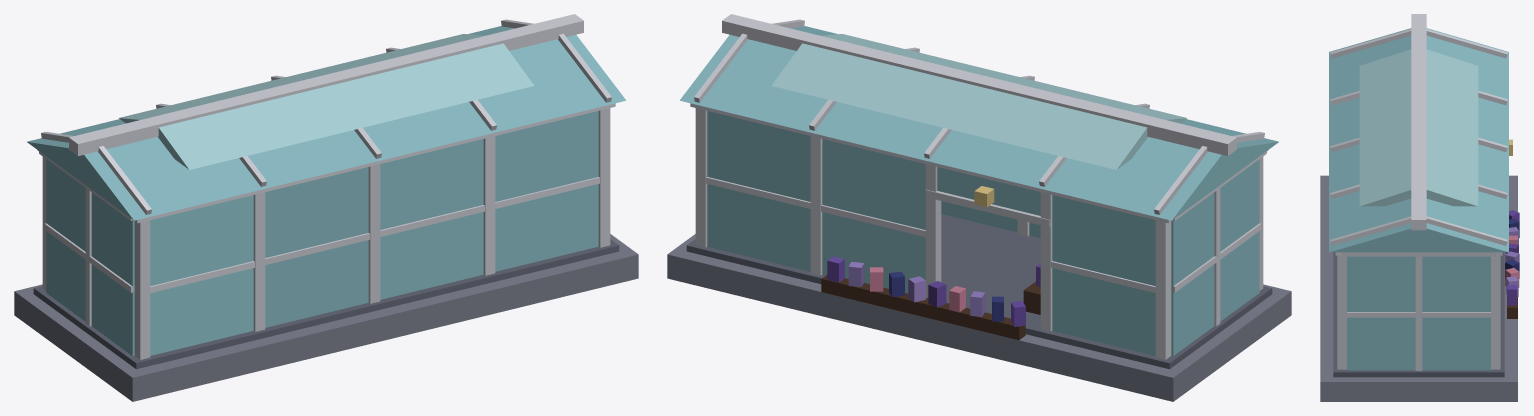
File: Decor_Observatory_Greenhouse.fbx
The picture shows the model from 3 angles, left to right: view 1: azimuth 30°, elevation 25°; view 2: azimuth 150°, elevation 25°; view 3: azimuth 270°, elevation 25°; orthographic projection. The views are drawn at different scales.
Parts seen in each view (by area): view 1: Greenhouse_Body; view 2: Greenhouse_Body; view 3: Greenhouse_Body.
Boxes of the visible parts, box(x1,y1,x2,y2) form: Greenhouse_Body: box(14, 14, 638, 401); Greenhouse_Body: box(667, 14, 1291, 401); Greenhouse_Body: box(1320, 14, 1519, 401).
Bounding box in the file's own units: 22 × 9.05 × 9.
